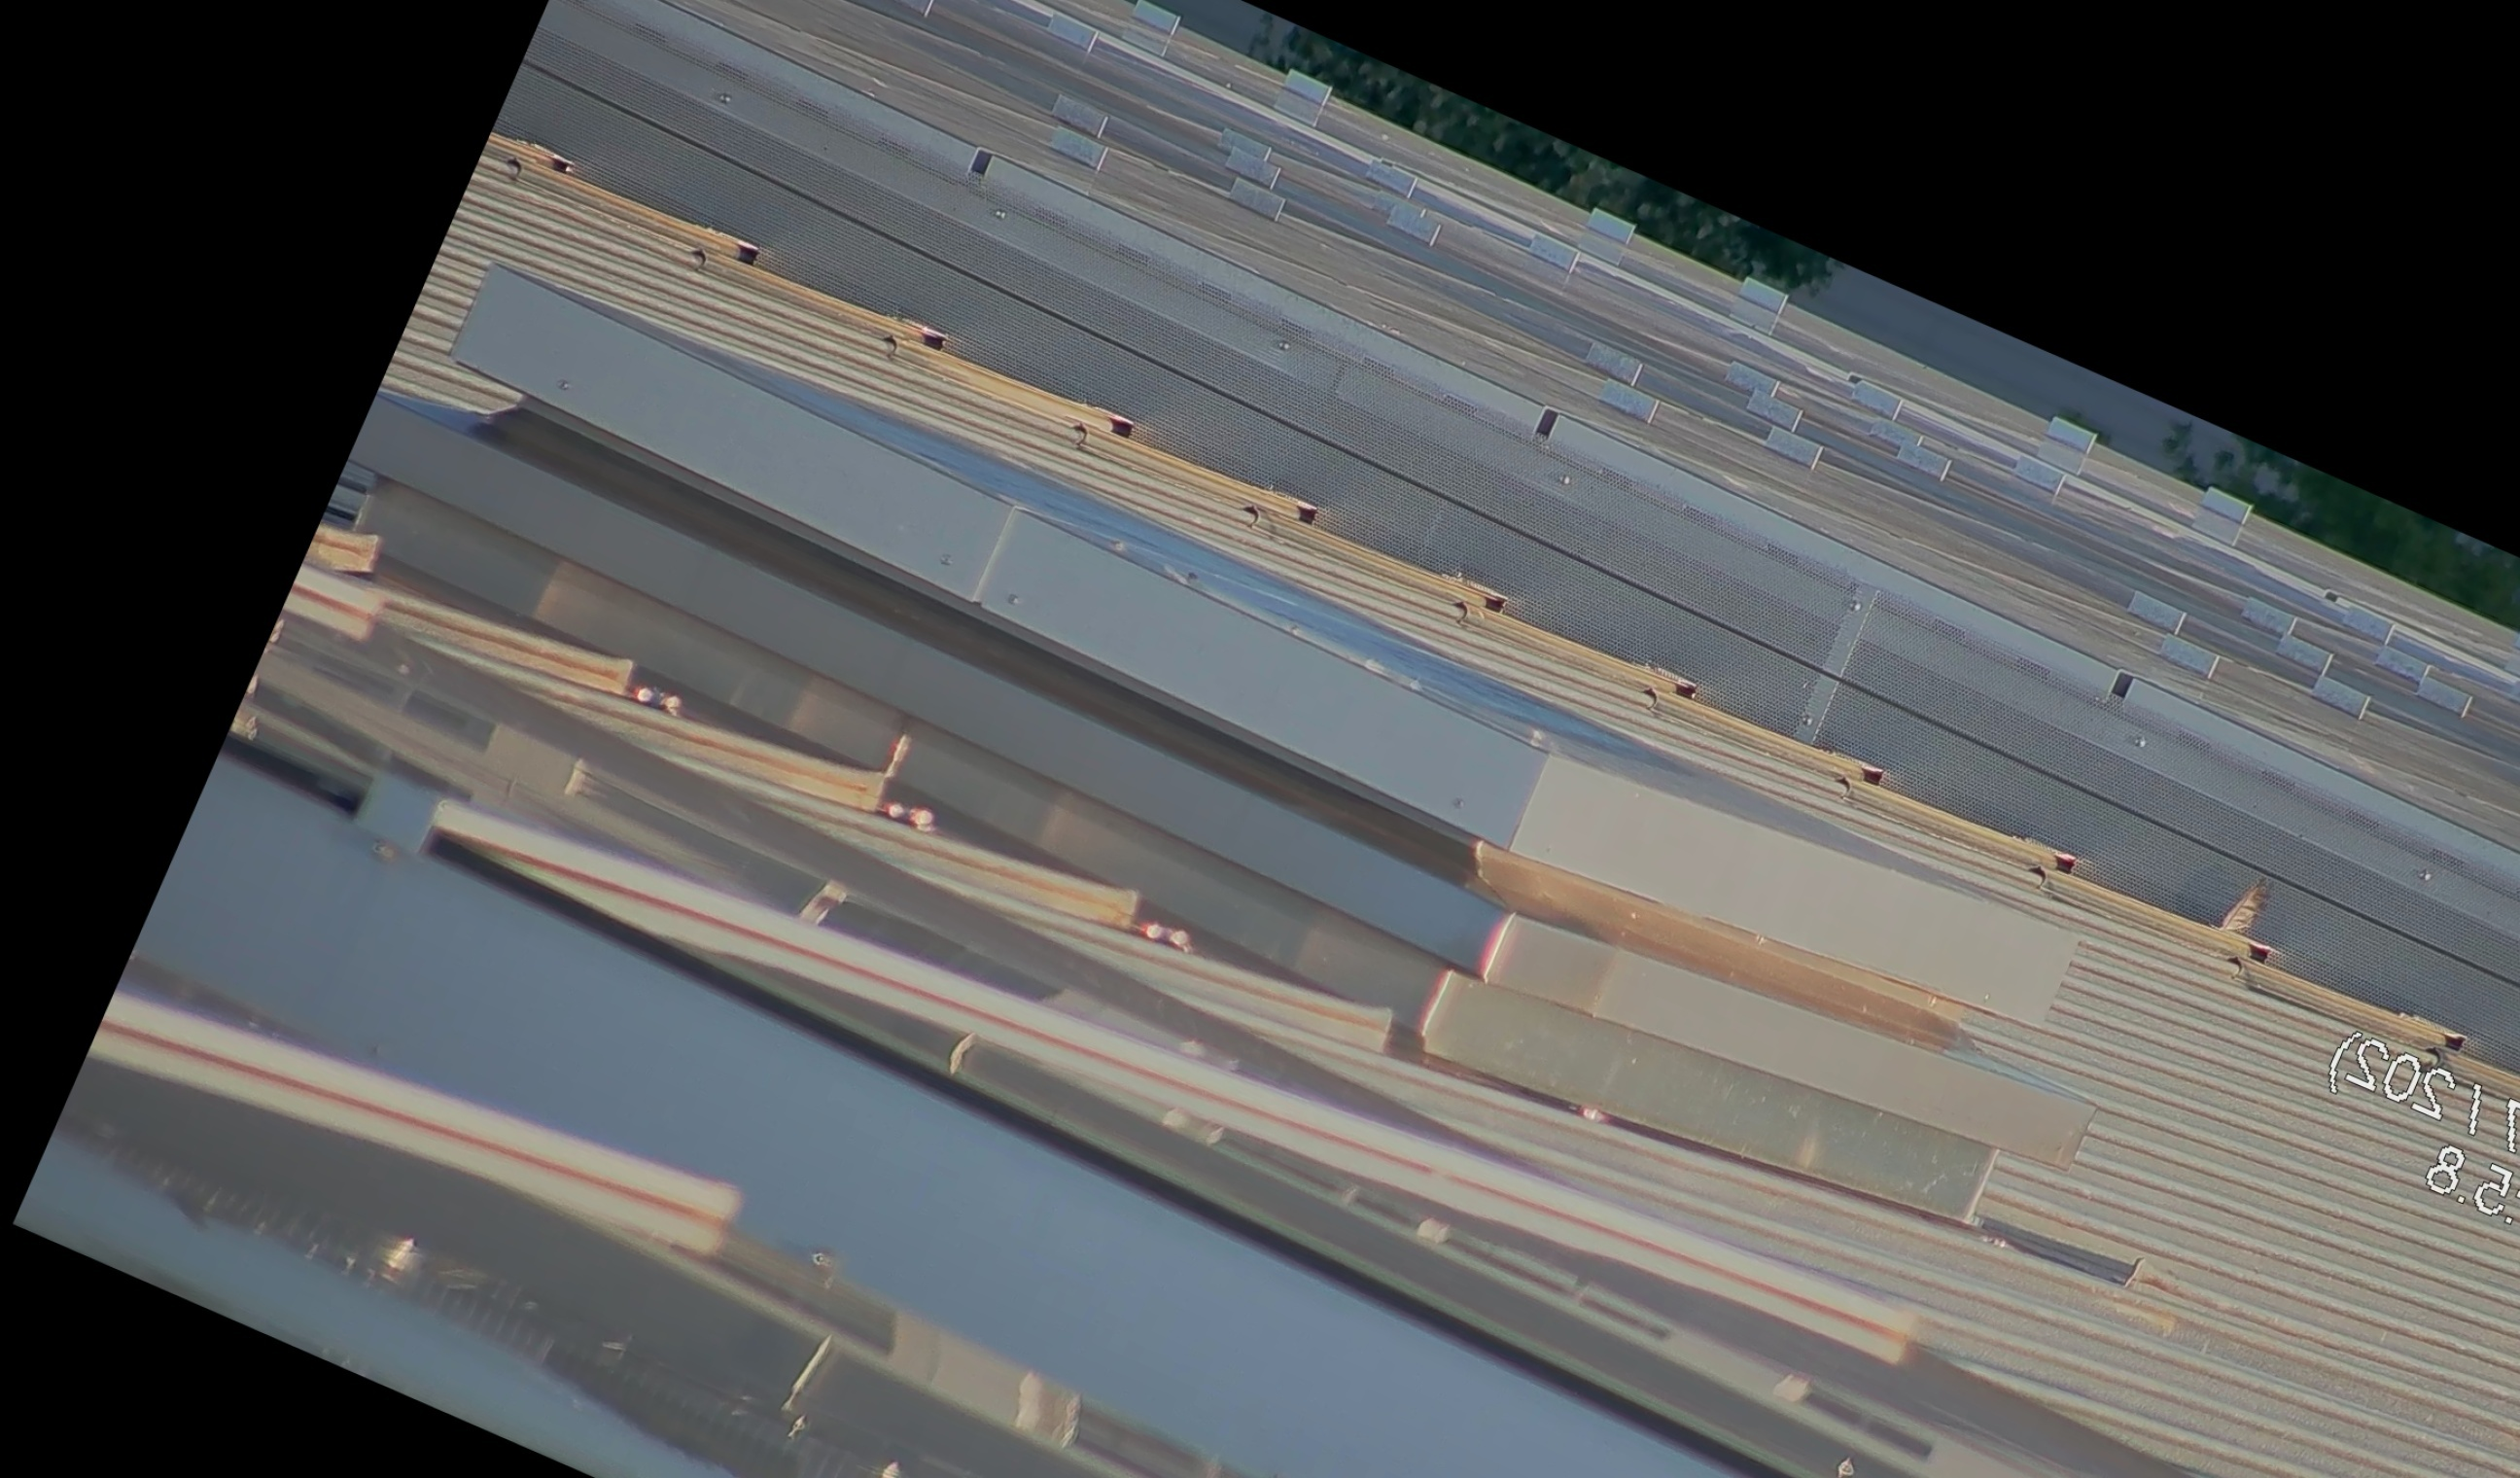Other: (2209, 852, 2304, 964)
